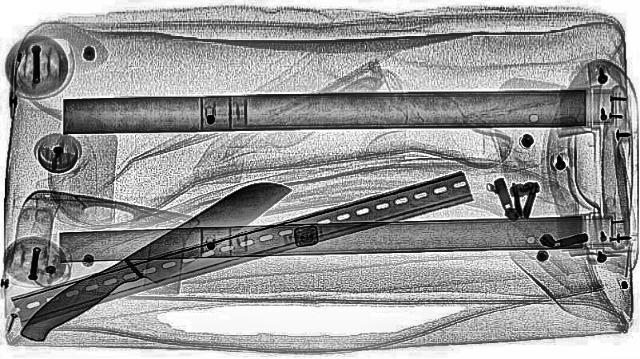Knife: (1, 174, 308, 342)
